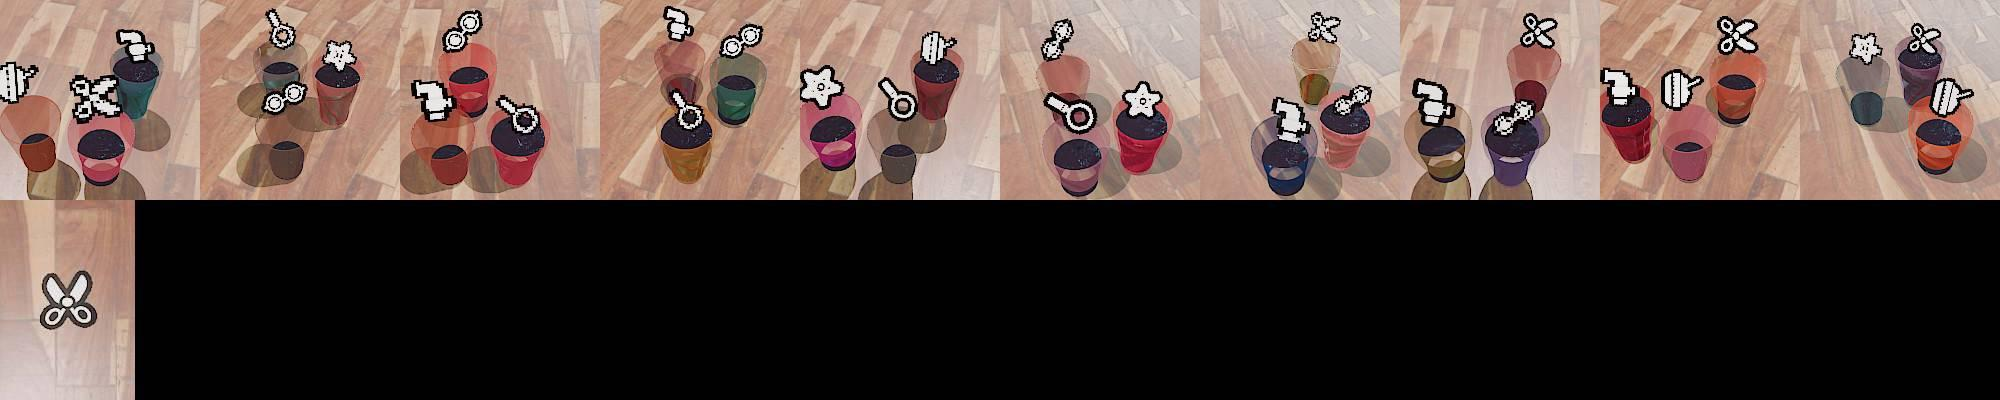icon: (38, 269, 99, 329), (69, 72, 124, 121), (1042, 89, 1098, 135), (1411, 76, 1456, 126), (798, 64, 845, 107), (411, 77, 456, 121), (876, 76, 919, 122), (441, 9, 483, 56), (1928, 76, 1976, 117), (1660, 68, 1703, 111), (1271, 96, 1313, 140), (1715, 14, 1759, 55), (0, 59, 39, 104), (1491, 97, 1536, 136), (1121, 80, 1164, 120), (262, 81, 310, 116), (1039, 15, 1074, 62), (1600, 66, 1640, 107), (495, 96, 539, 133), (723, 22, 765, 60), (669, 89, 706, 131), (1521, 12, 1559, 50), (919, 29, 958, 66), (116, 28, 155, 65), (265, 8, 297, 51), (1333, 85, 1372, 119), (1307, 10, 1342, 46), (663, 4, 695, 42), (1848, 31, 1882, 65), (1908, 22, 1942, 55), (322, 39, 356, 72)
